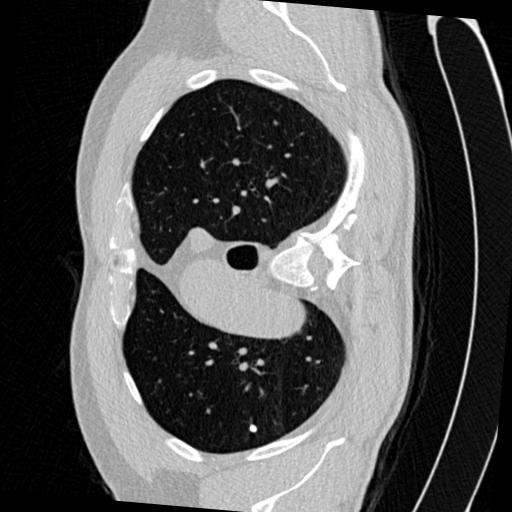nodule: (246, 420, 261, 435)
